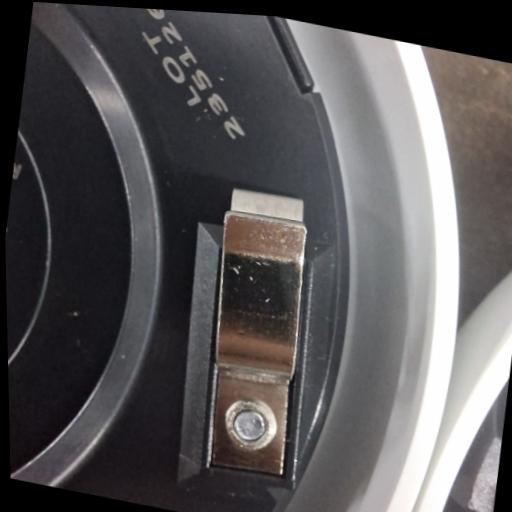yayli: (186, 184, 325, 485)
